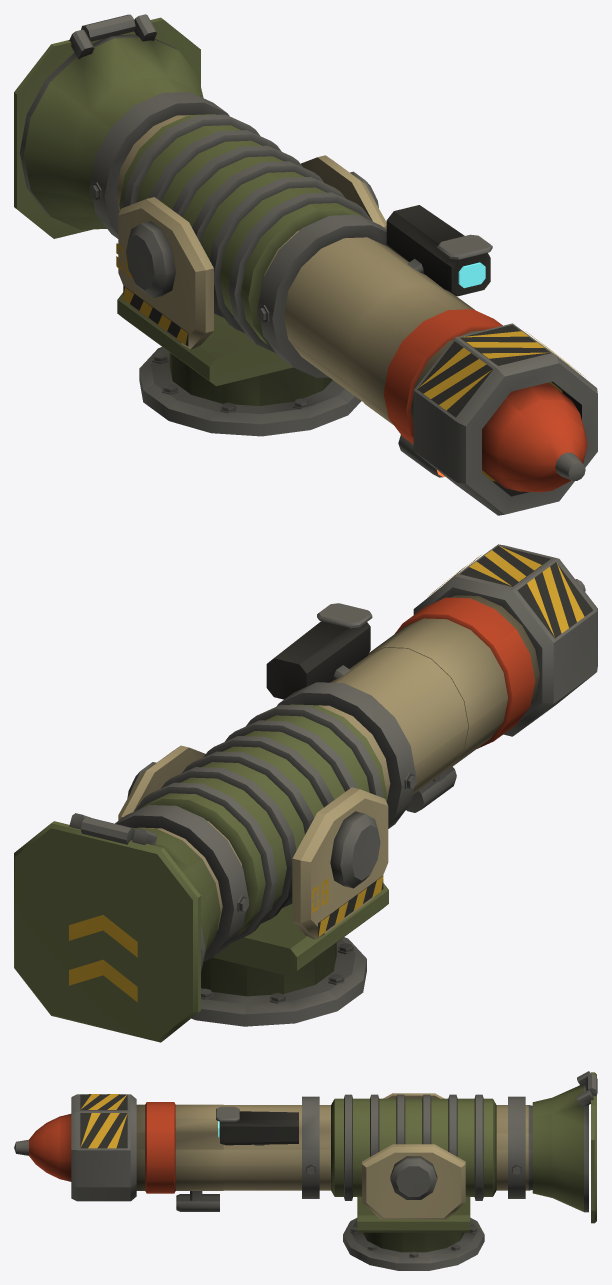
Rendered from rocket-launcher-shoulder.glb.
3 renders of one model, top to bottom at view 1: azimuth 30°, elevation 25°; view 2: azimuth 150°, elevation 25°; view 3: azimuth 270°, elevation 25°, orthographic. The views are drawn at different scales.
Parts seen in each view (by area): view 1: Recoil, Body, Missile_0, Lid; view 2: Recoil, Lid, Body; view 3: Recoil, Body, Missile_0, Lid.
Part boxes in pixels (bbox=[...]): Recoil: bbox=[19, 14, 597, 515]; Body: bbox=[116, 155, 386, 436]; Missile_0: bbox=[482, 382, 587, 492]; Lid: bbox=[14, 14, 200, 238]; Recoil: bbox=[69, 544, 597, 971]; Lid: bbox=[14, 817, 200, 1042]; Body: bbox=[118, 745, 388, 1026]; Recoil: bbox=[71, 1071, 593, 1212]; Body: bbox=[343, 1093, 484, 1270]; Missile_0: bbox=[14, 1114, 71, 1181]; Lid: bbox=[586, 1072, 597, 1223].
Bounding box in the file's own units: 0.68 × 0.7522 × 2.48.
